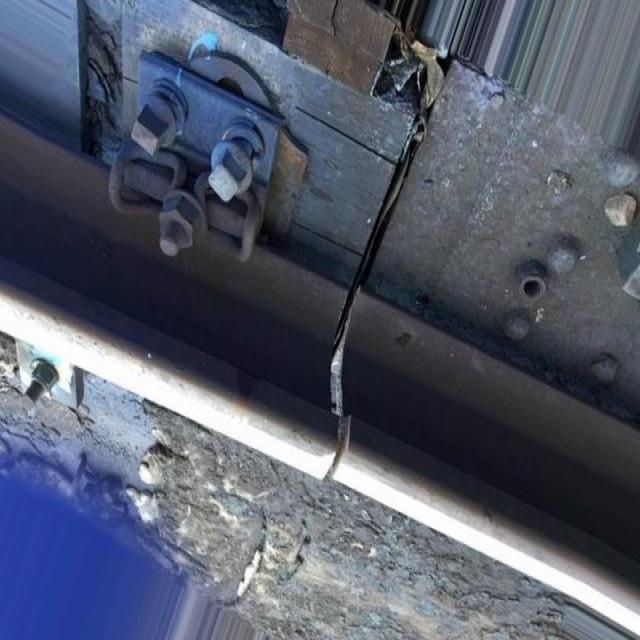crack: (262, 4, 505, 535)
